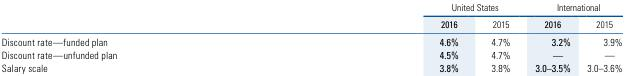table: (0, 1, 621, 73)
table column: (0, 1, 277, 73), (277, 1, 474, 73), (522, 1, 578, 73), (474, 1, 522, 73), (578, 1, 621, 73)
table column header: (0, 1, 621, 32)
table row: (0, 15, 621, 32), (0, 32, 621, 47), (0, 1, 621, 15), (0, 47, 621, 60), (0, 60, 621, 73)
table spanning cell: (277, 1, 522, 15), (522, 1, 621, 15)
